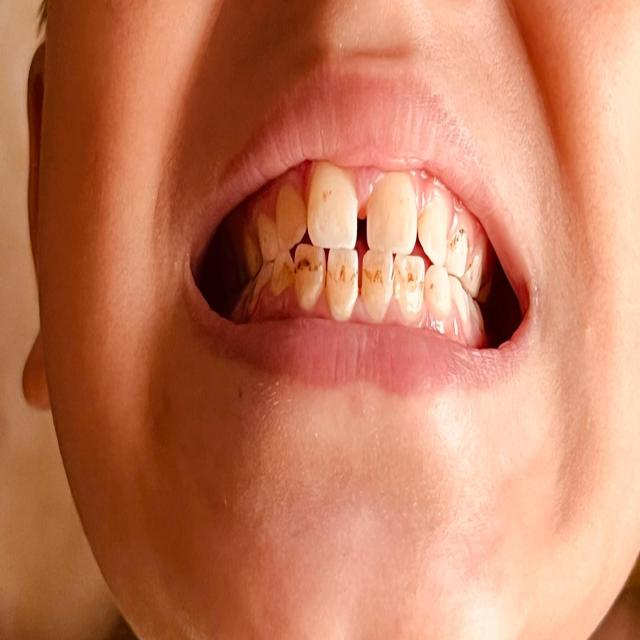tooth: (308, 167, 360, 251), (367, 180, 417, 250), (330, 253, 358, 322), (422, 204, 452, 266), (394, 260, 428, 313), (293, 250, 323, 306), (363, 254, 388, 318), (260, 222, 278, 258)
